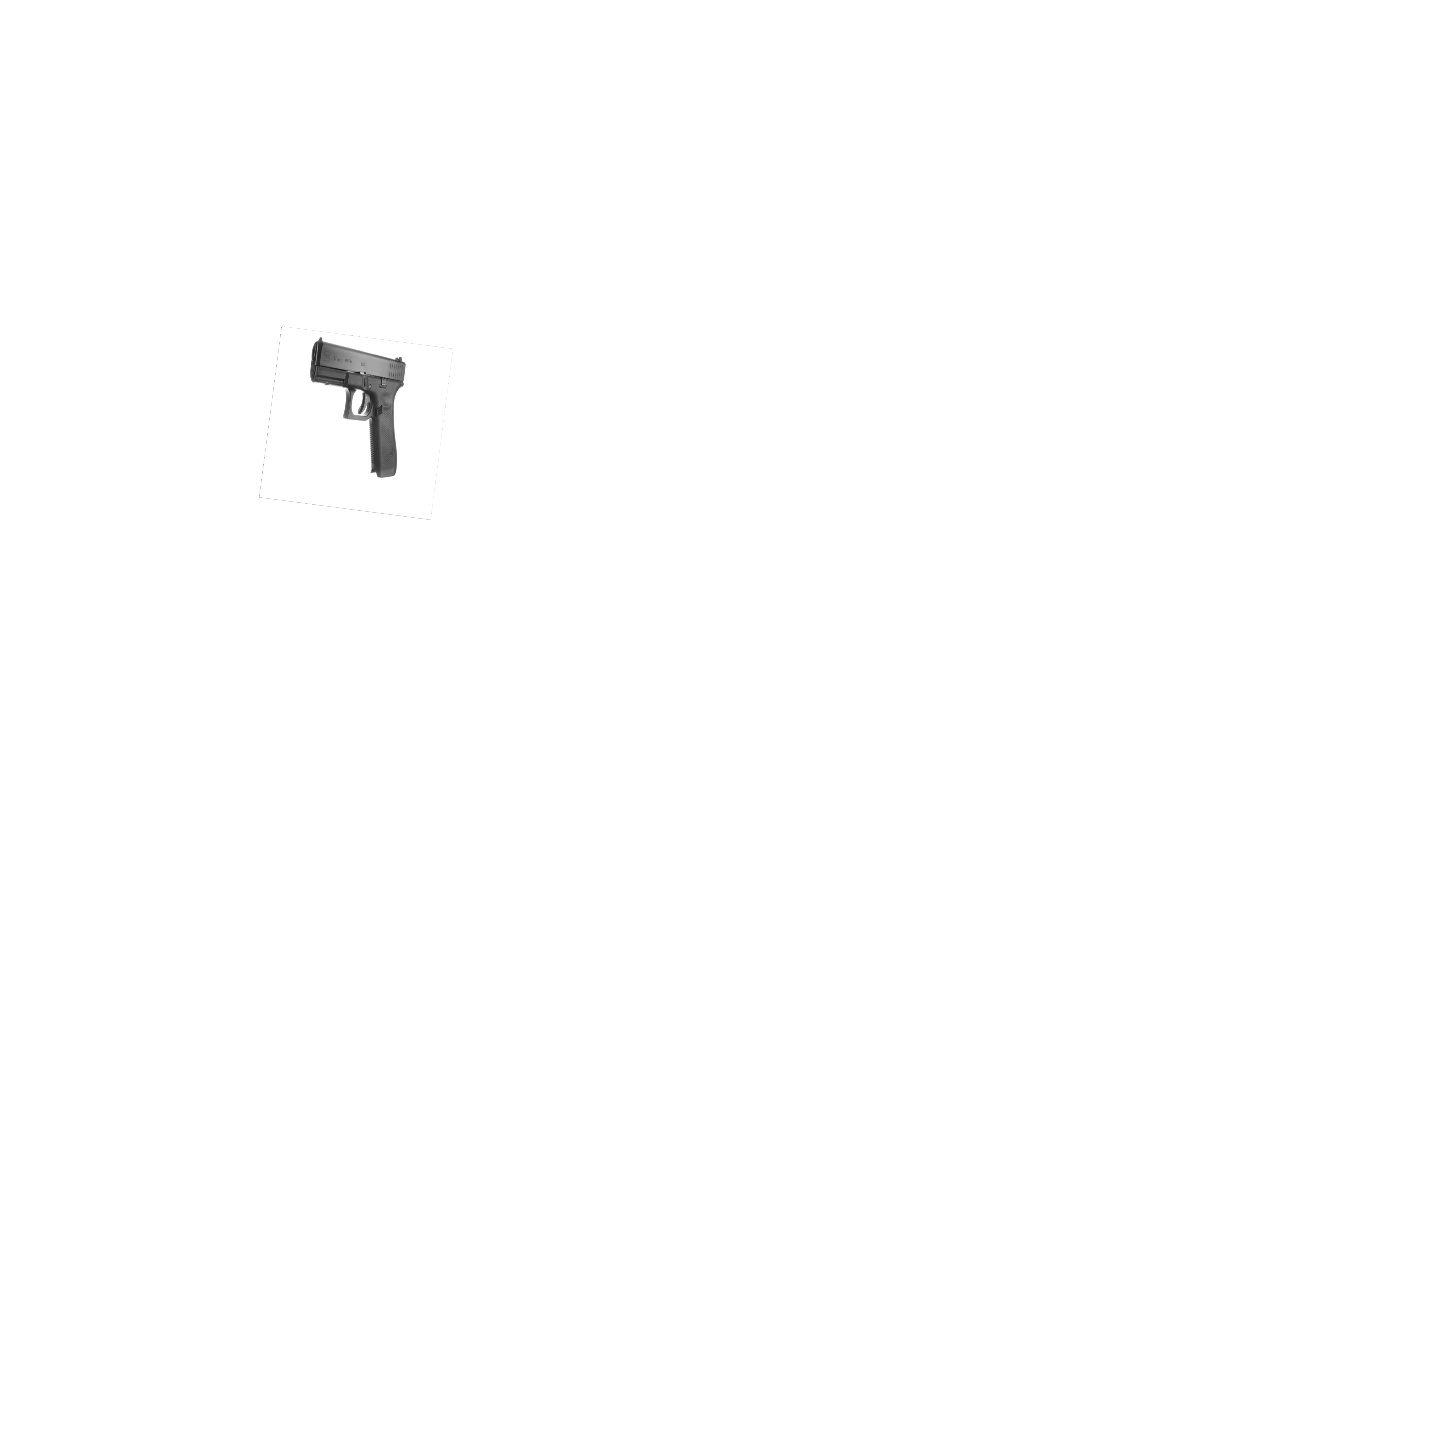gun: (300, 334, 415, 489)
